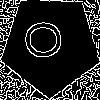O: (25, 20, 70, 60)
